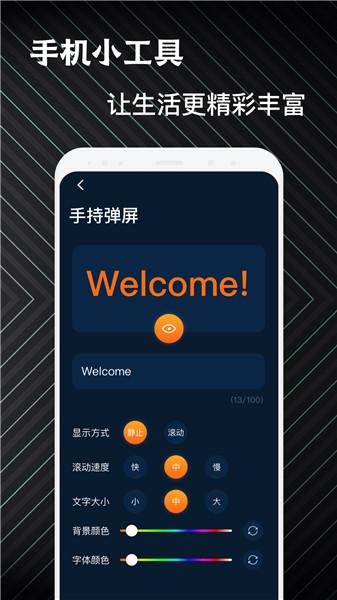phone: (46, 150, 286, 597)
